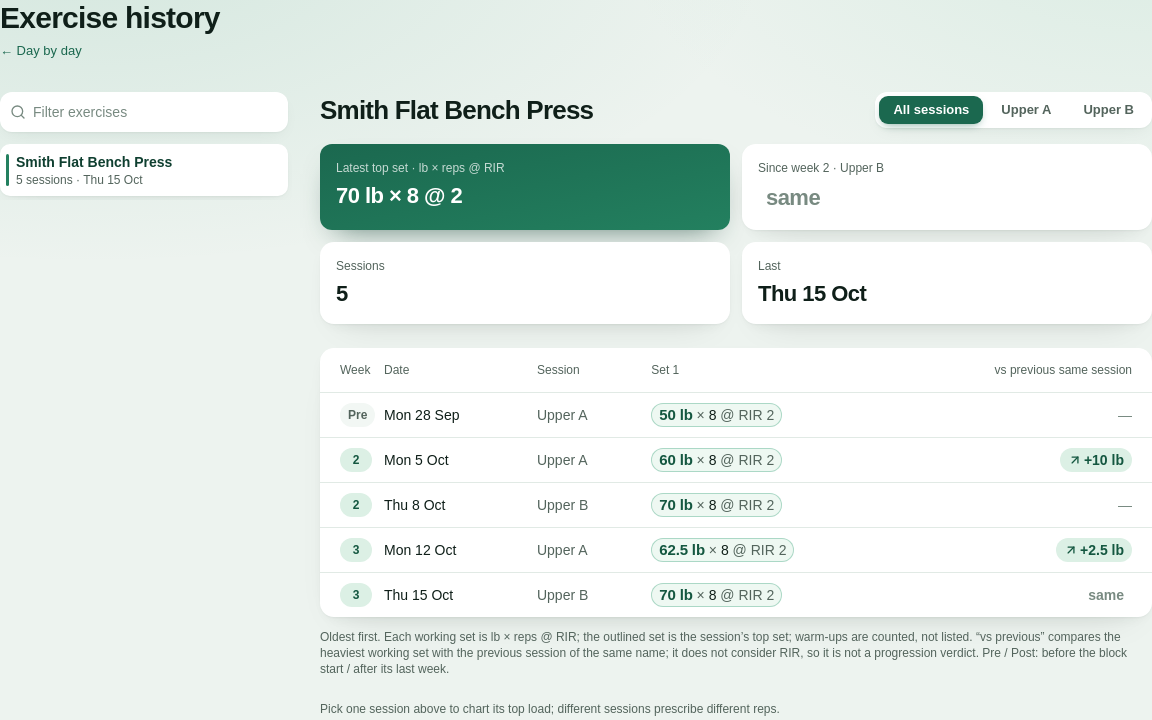
it: HistoryScreen › compares each exposure with the previous one of the same session, week to week
The width and height of the screenshot is (1152, 720).
Expected: the row with test id "history-exposure" shows "+2.5 lb", [1080,542,1124,558]
Expected: the row with test id "history-exposure" shows "same", [1088,587,1124,603]
What coordinates should you click on to do the following:
click the button "Upper A"
I would click on:
 (1026, 110)
Its box is [987,96,1066,124].
(page scrolled)
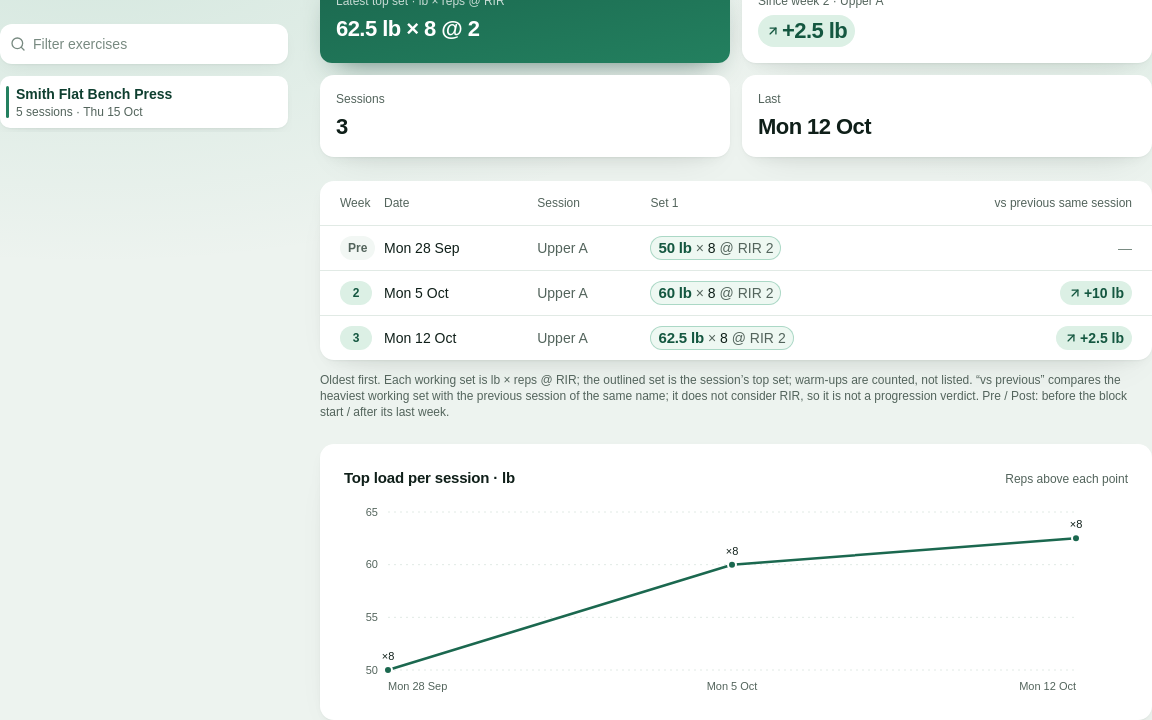
Expected: the number of rows with test id "history-exposure" is 3, [320,226,1151,270]; [320,270,1151,316]; [320,316,1151,360]
Expected: the element with test id "history-since" reads "+2.5 lb", [782,18,847,43]
Expected: the picture named "Top recorded load per session" is shown, [344,496,1128,696]
